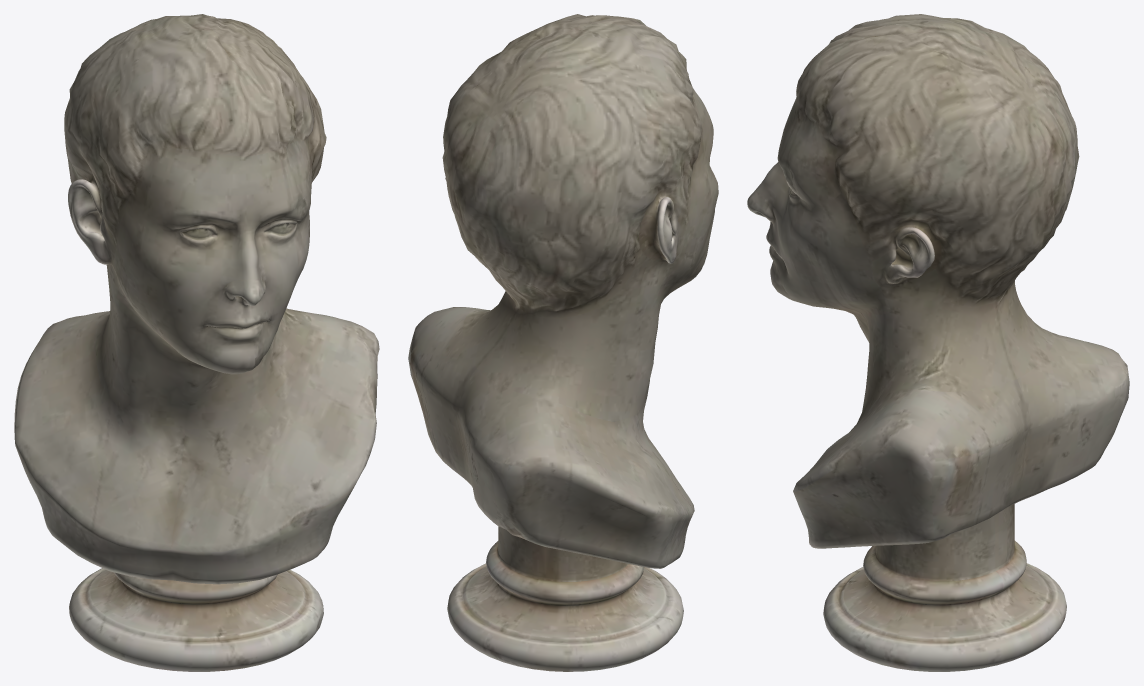
Rendered from marble_bust_01.glb.
3 renders of one model, left to right at view 1: azimuth 30°, elevation 25°; view 2: azimuth 150°, elevation 25°; view 3: azimuth 270°, elevation 25°, orthographic. The views are drawn at different scales.
Parts seen in each view (by area): view 1: marble_bust_01; view 2: marble_bust_01; view 3: marble_bust_01.
Boxes of the visible parts, x1,y1,x2,y2 form: marble_bust_01: (14,14,379,671); marble_bust_01: (408,14,718,671); marble_bust_01: (747,14,1129,671).
Size of the model in its own units: 0.2718 by 0.5149 by 0.2997.
1 material, 1 textured.
